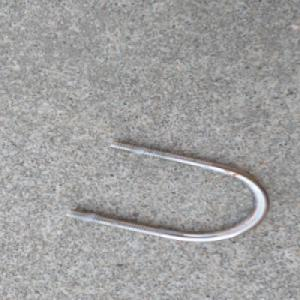ClampPart: (63, 138, 271, 244)
